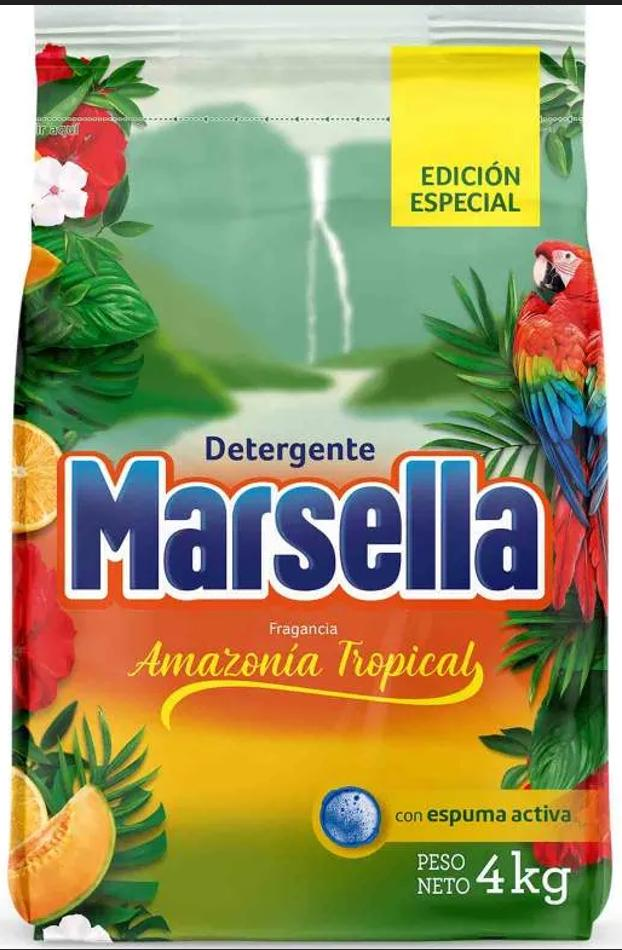brand: (54, 436, 564, 622)
extra_detail: (129, 625, 489, 690)
net_weight: (474, 848, 575, 913)
product_name: (200, 425, 378, 471)
